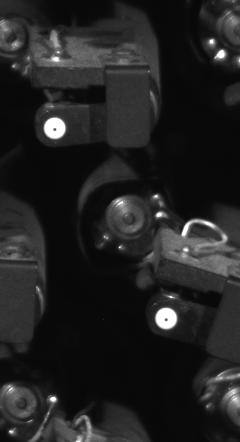fiber: (152, 301, 184, 337), (40, 113, 71, 142)
